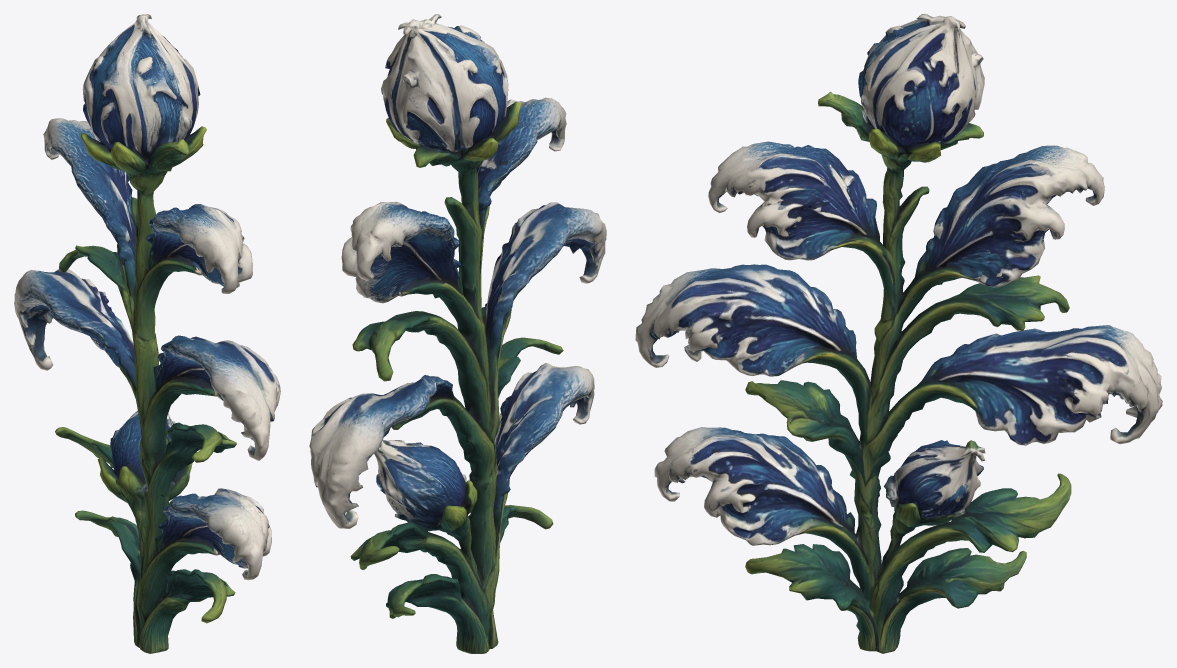
File: ornamental+flower+3d+model+1k.glb
3 renders of one model, left to right at view 1: azimuth 30°, elevation 25°; view 2: azimuth 150°, elevation 25°; view 3: azimuth 270°, elevation 25°, orthographic. The views are drawn at different scales.
Visible parts, largest first — view 1: tripo_node_0cb7aaf6-52aa-4037-8f78-752630cbe760; view 2: tripo_node_0cb7aaf6-52aa-4037-8f78-752630cbe760; view 3: tripo_node_0cb7aaf6-52aa-4037-8f78-752630cbe760.
Part boxes in pixels (x1=…): tripo_node_0cb7aaf6-52aa-4037-8f78-752630cbe760: x1=14, y1=14, x2=280, y2=653; tripo_node_0cb7aaf6-52aa-4037-8f78-752630cbe760: x1=309, y1=14, x2=606, y2=653; tripo_node_0cb7aaf6-52aa-4037-8f78-752630cbe760: x1=635, y1=14, x2=1162, y2=653.
Size of the model in its own units: 0.1818 by 1 by 0.7436.
1 material, 1 textured.
